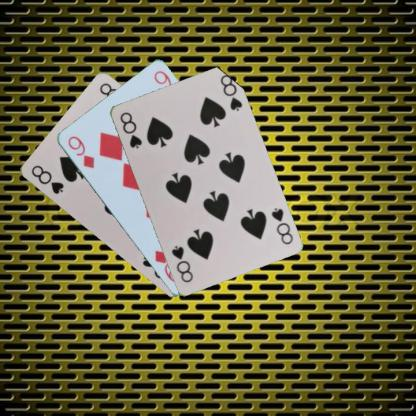8s: (28, 162, 65, 196), (117, 108, 143, 150), (268, 204, 294, 245)
9d: (65, 132, 95, 170)
